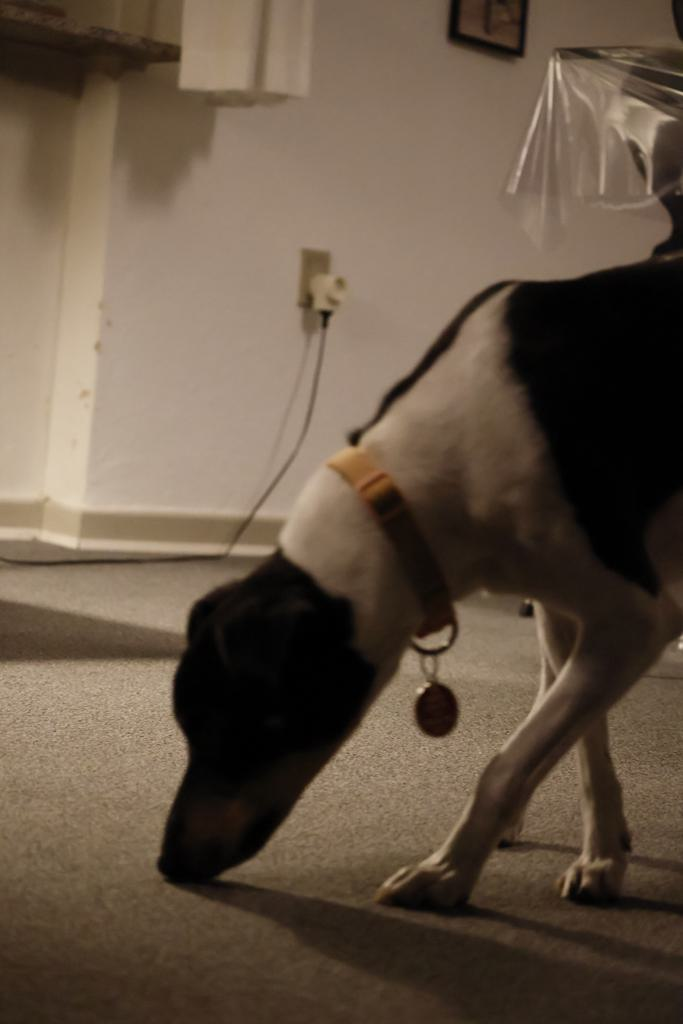Dog: (142, 245, 683, 919)
